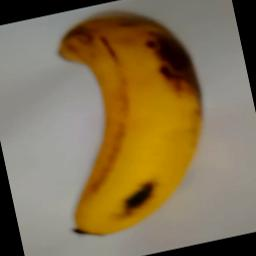Banana Ripe: (29, 0, 232, 245)
